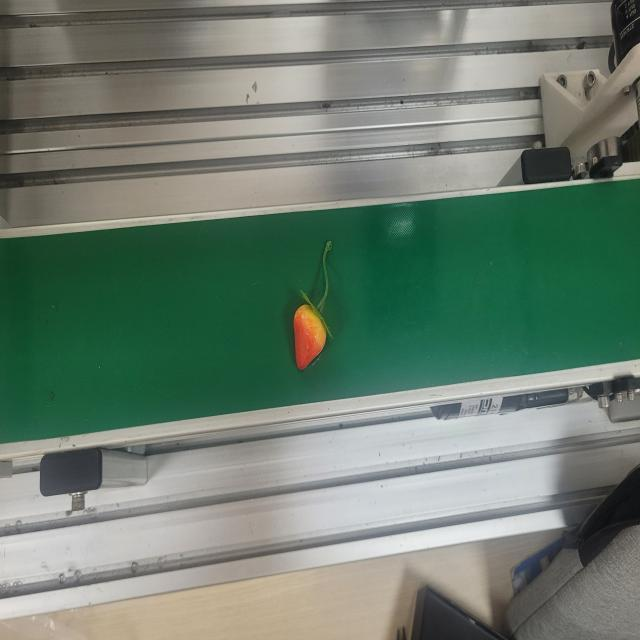Small Unripe Strawberry: (290, 236, 337, 374)
